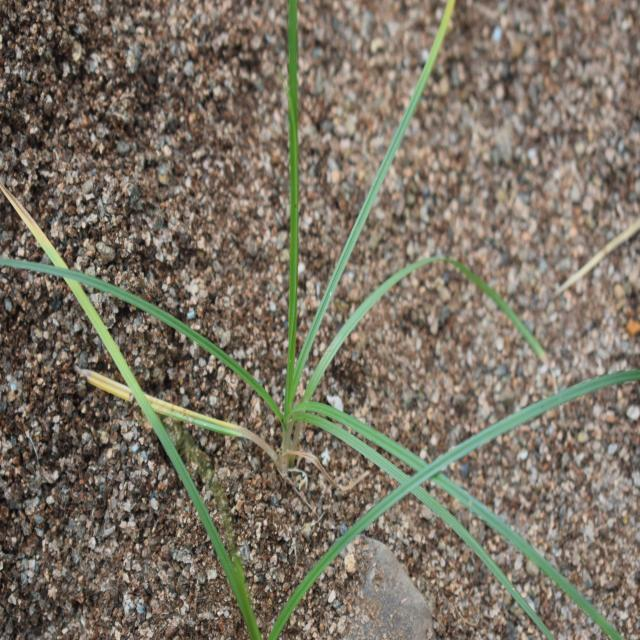sedge: (14, 90, 555, 587)
